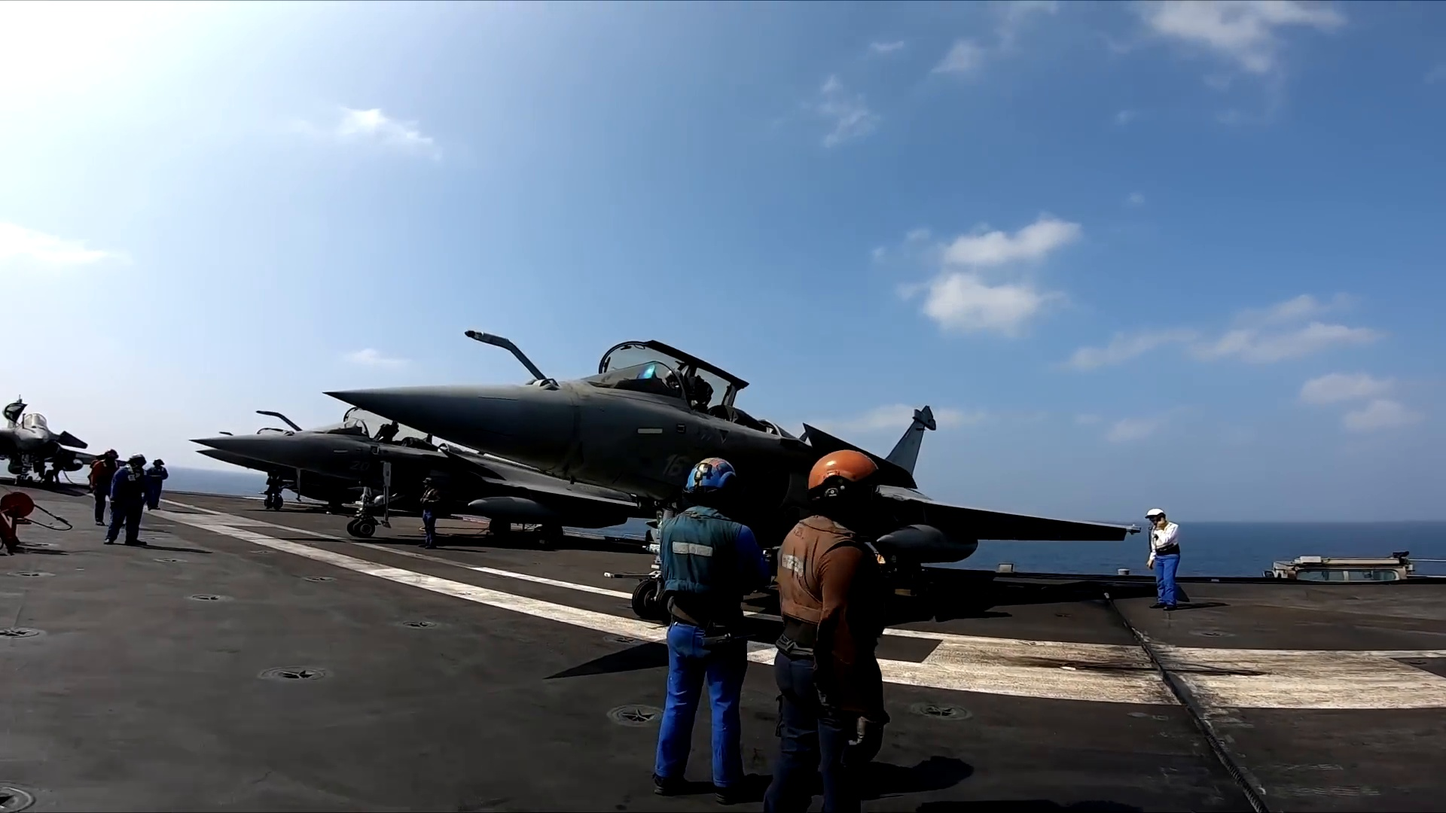Rafale: (323, 329, 1141, 621), (193, 402, 611, 535), (0, 397, 142, 488)
